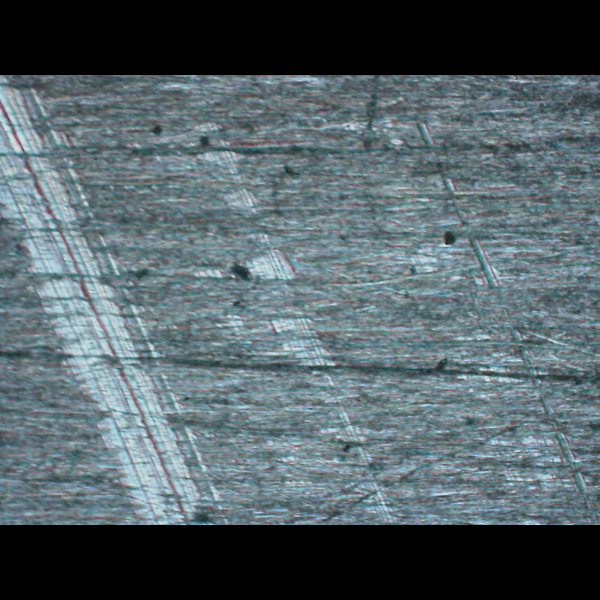d: (167, 75, 399, 523), (0, 81, 233, 523)
